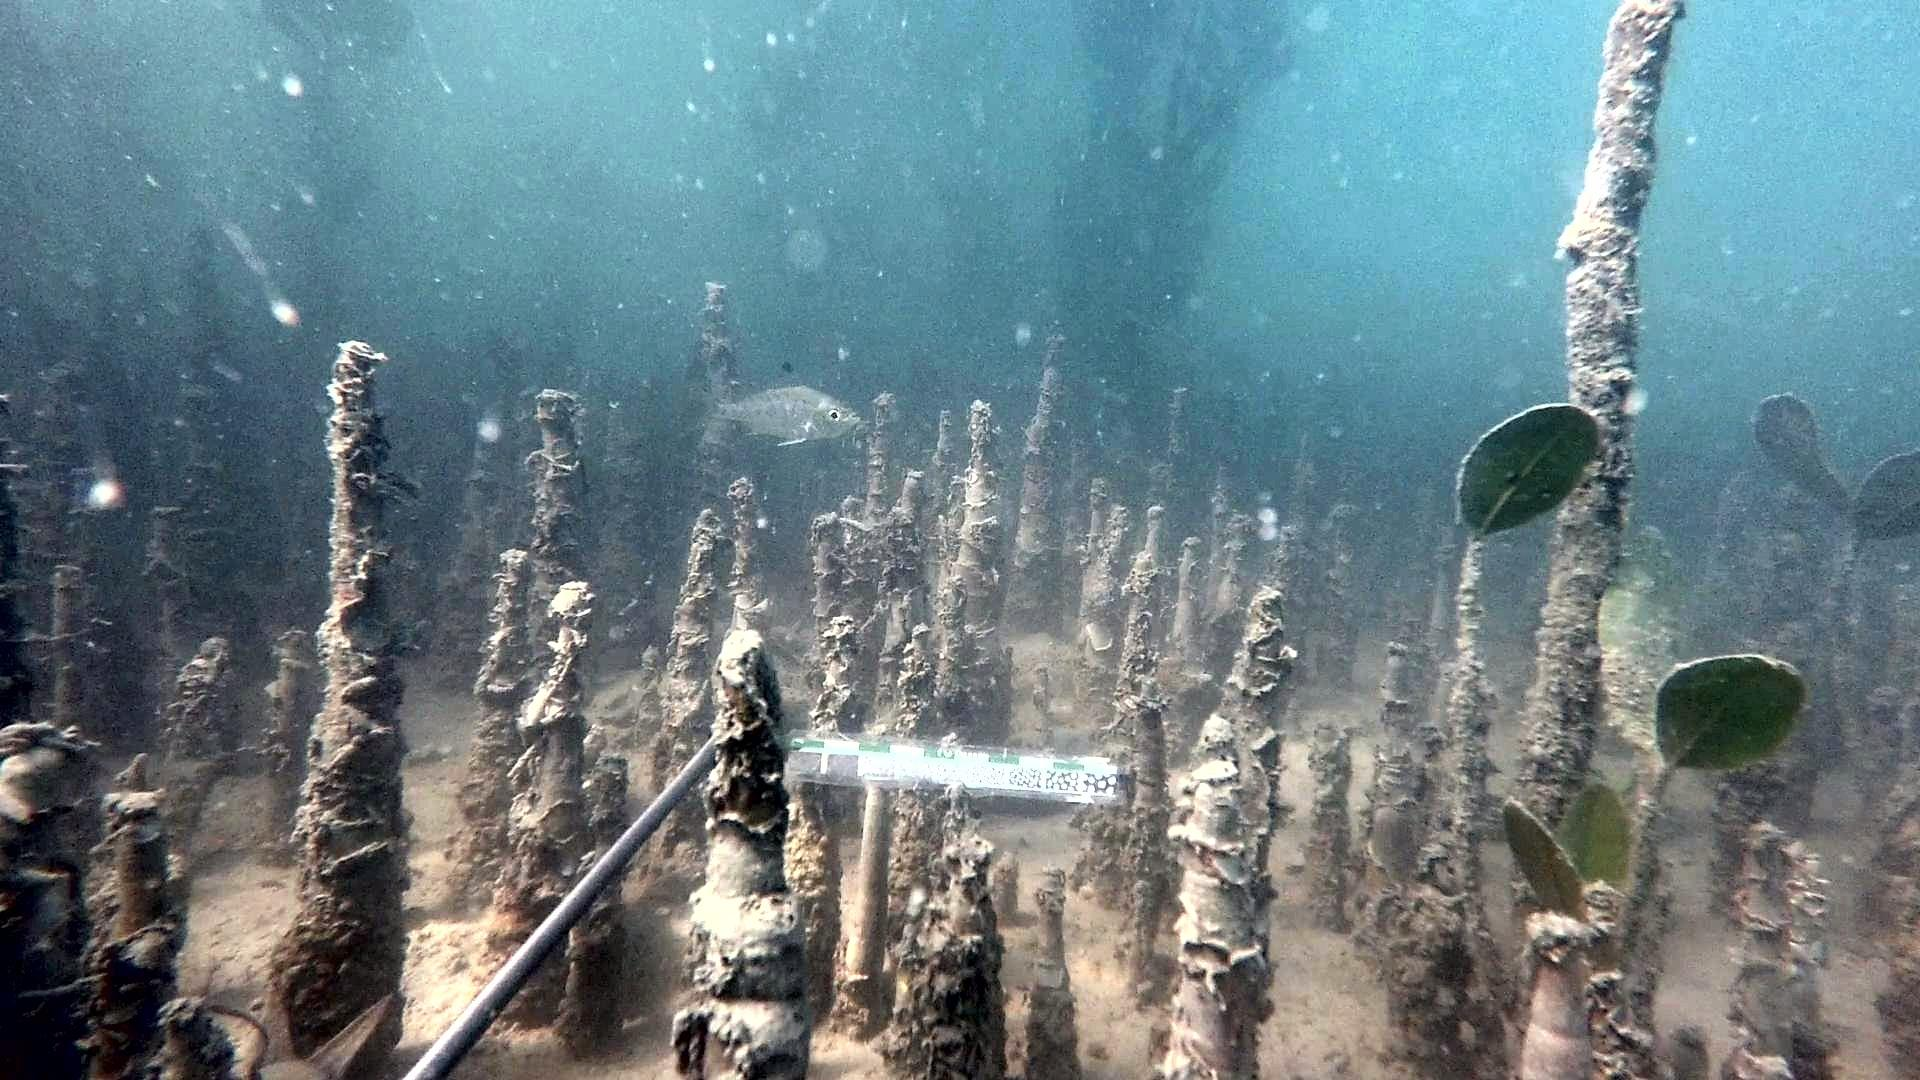gerres: (694, 361, 865, 450)
